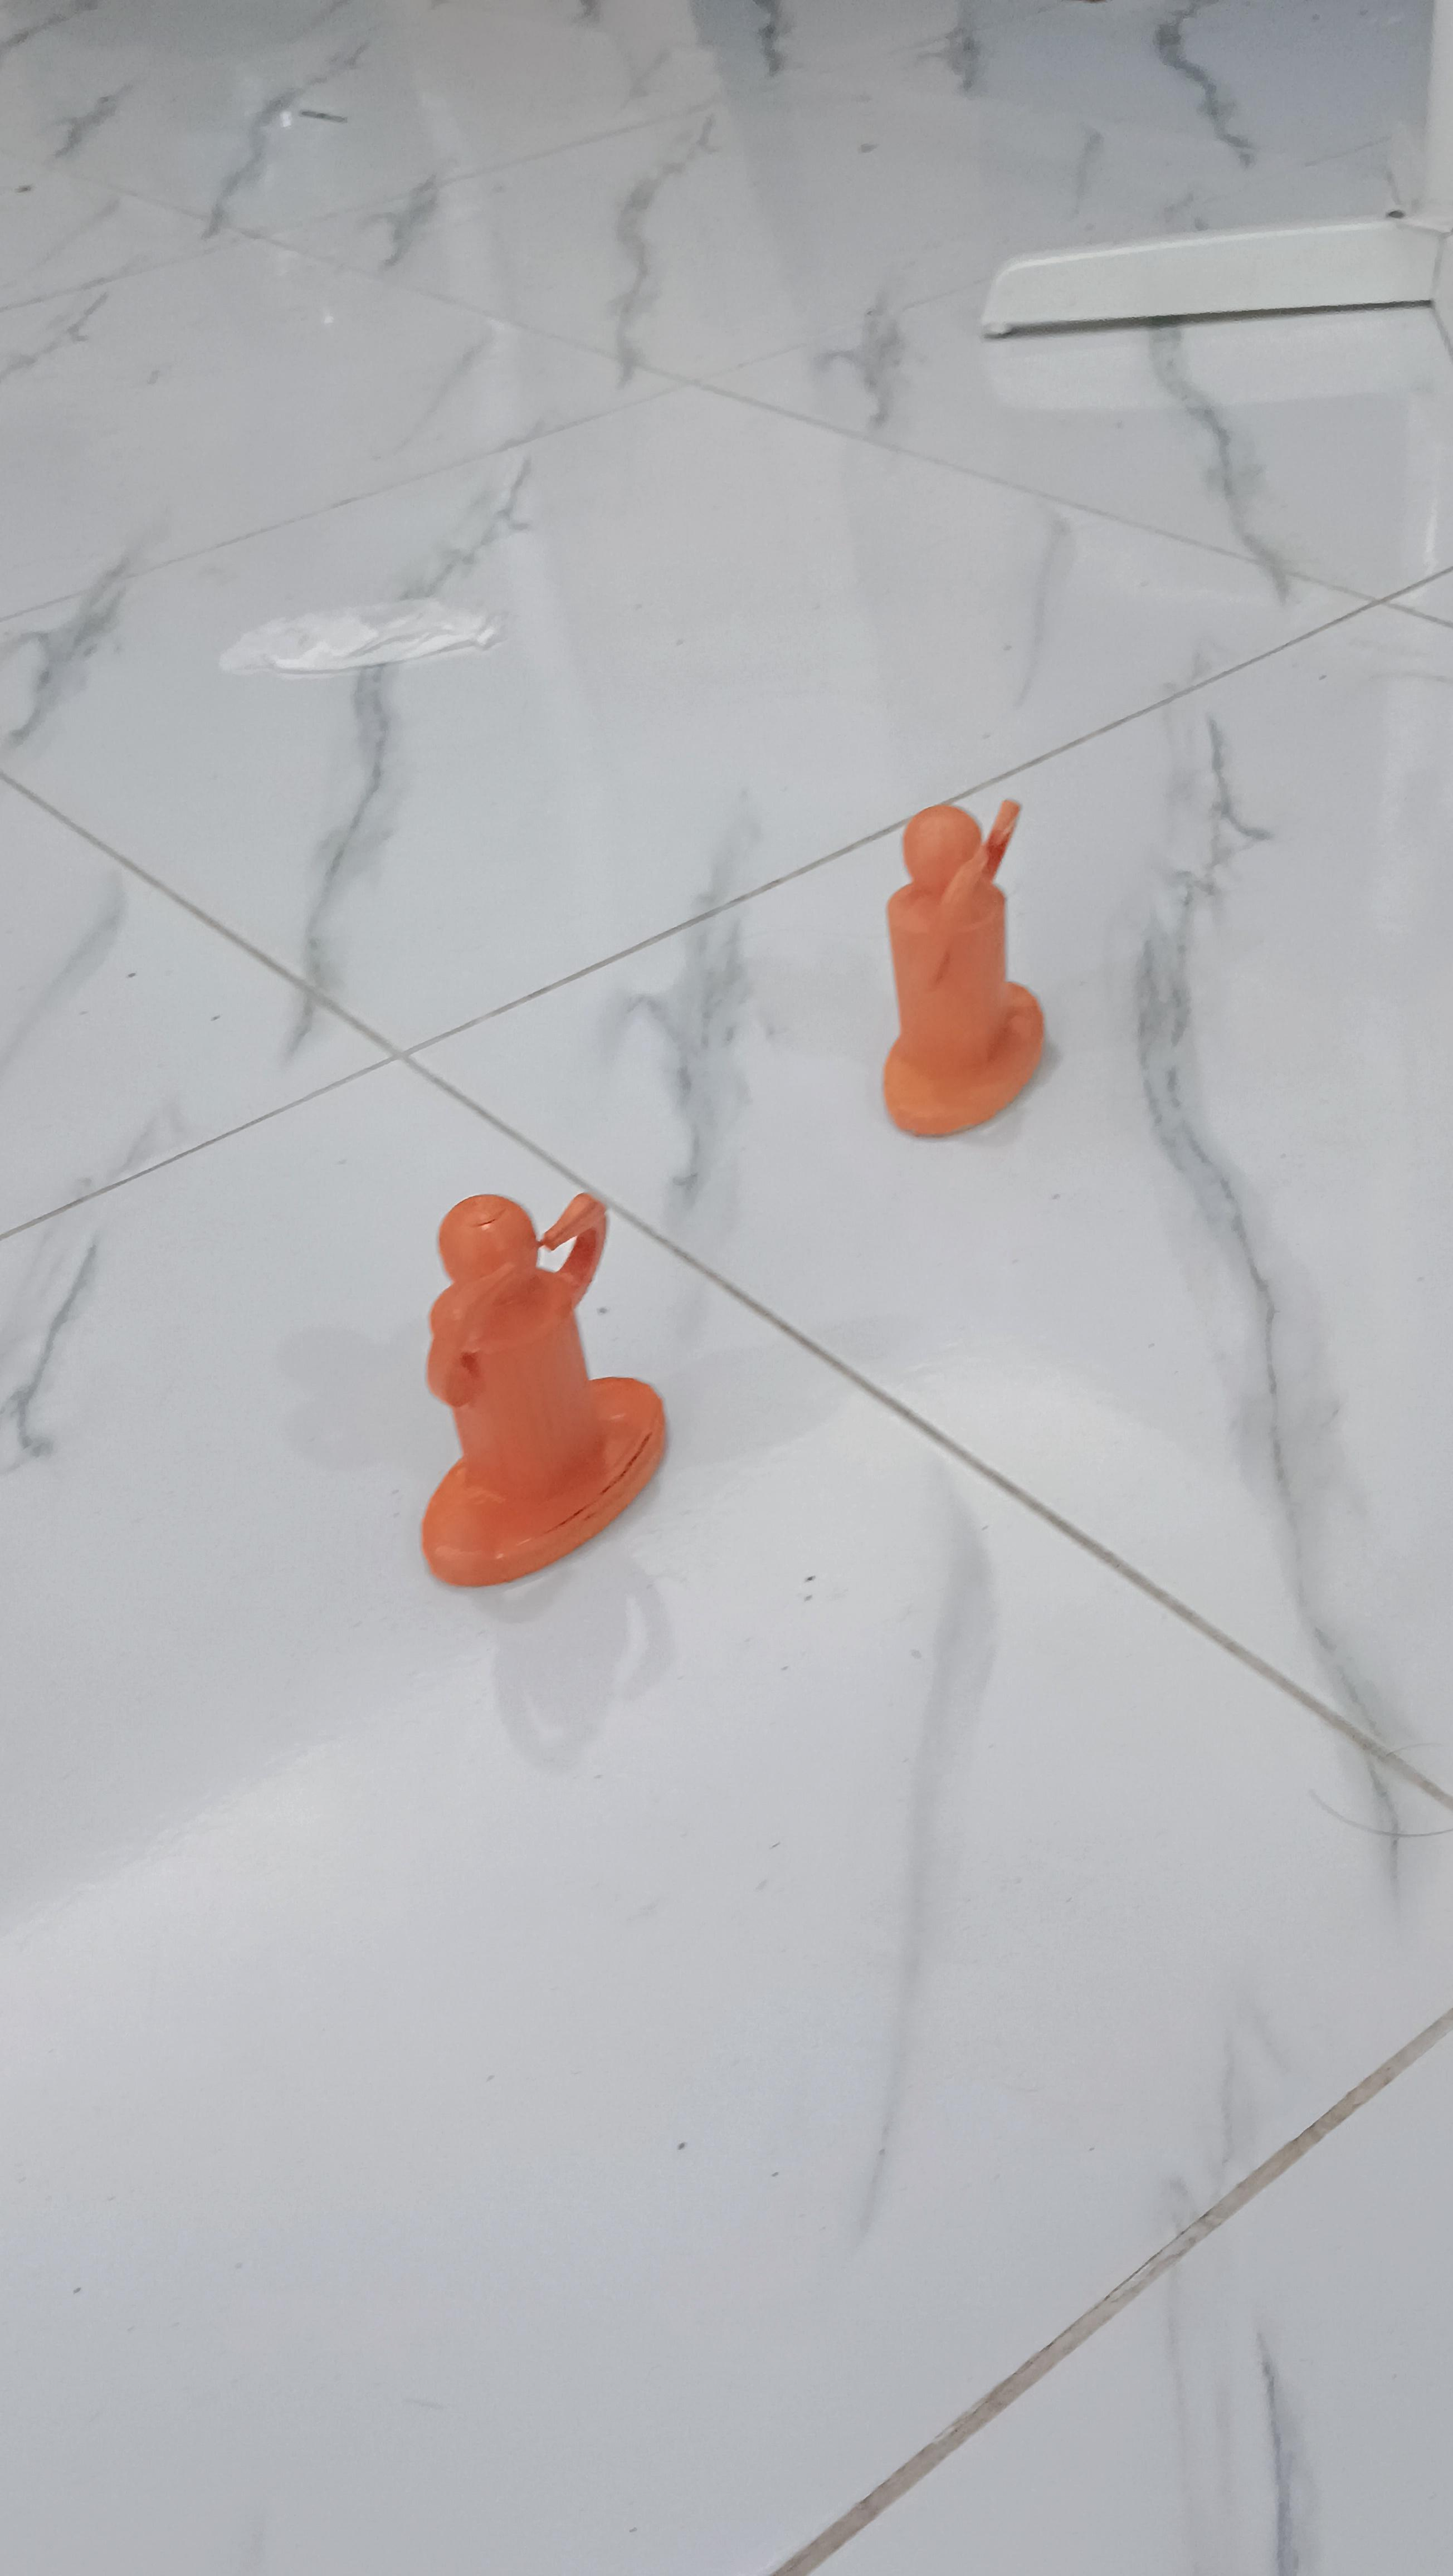real_person: (382, 1181, 670, 1608), (842, 769, 1078, 1163)
